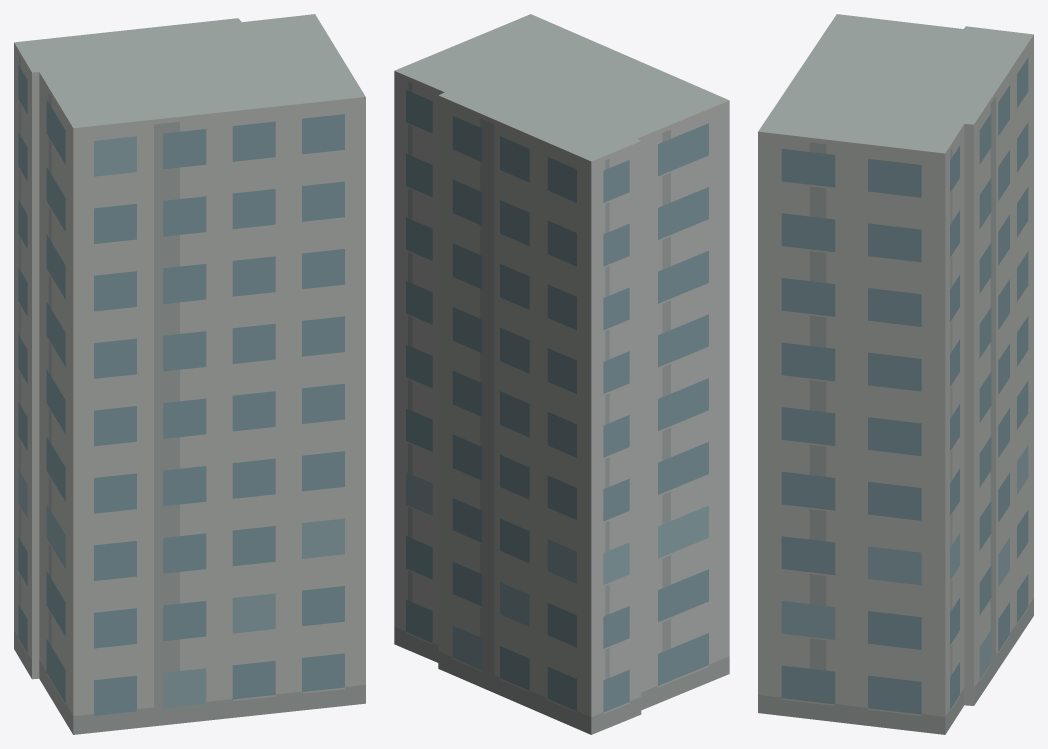
File: survey-upis-32872839.glb
3 renders of one model, left to right at view 1: azimuth 30°, elevation 25°; view 2: azimuth 150°, elevation 25°; view 3: azimuth 270°, elevation 25°, orthographic. The views are drawn at different scales.
Visible parts, largest first — view 1: survey-upis-32872839.tmp; view 2: survey-upis-32872839.tmp; view 3: survey-upis-32872839.tmp.
Part boxes in pixels (left/top/right/bottom): survey-upis-32872839.tmp: left=14, top=14, right=365, bottom=734; survey-upis-32872839.tmp: left=394, top=14, right=729, bottom=734; survey-upis-32872839.tmp: left=758, top=14, right=1033, bottom=734.
Bounding box in the file's own units: 15.4 × 29.9 × 12.86.
